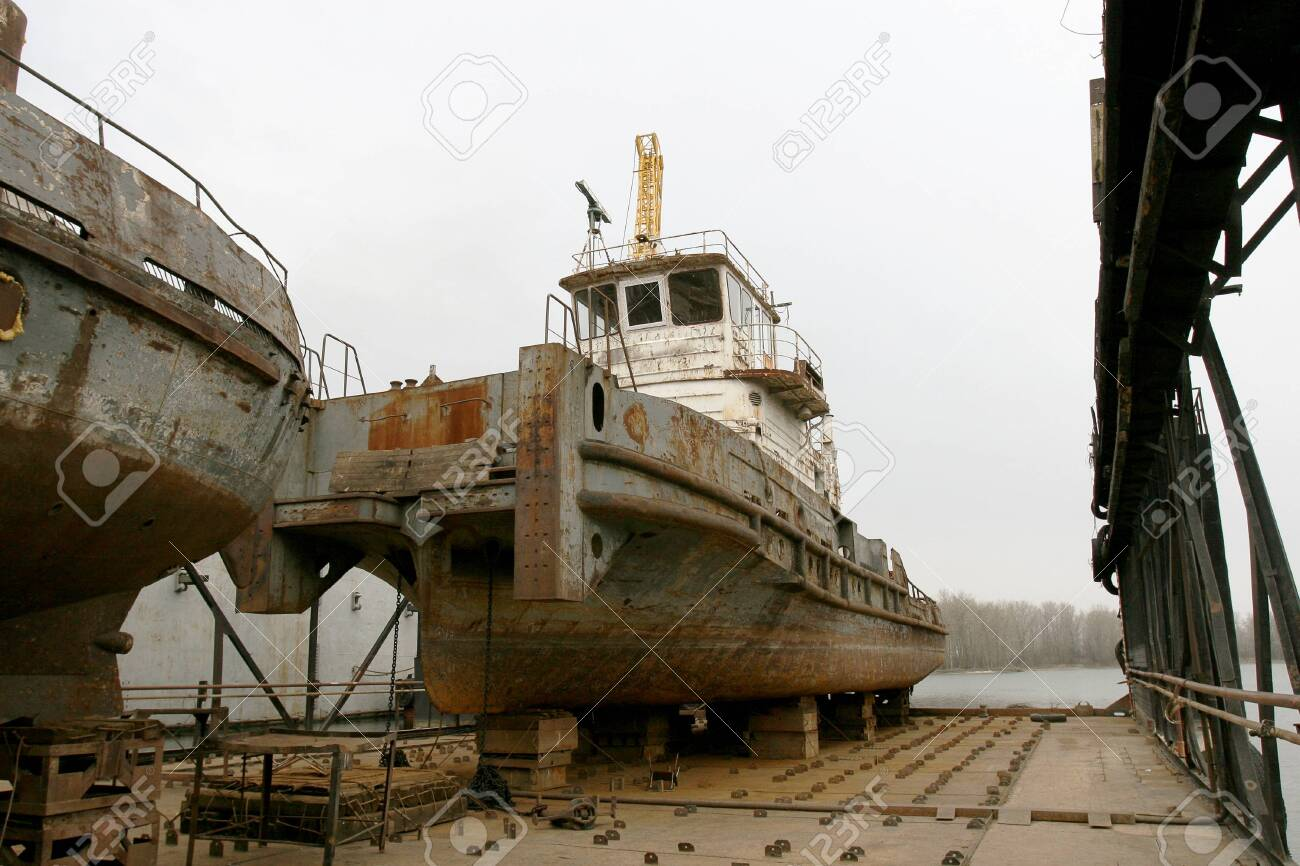rust: (488, 610, 945, 694), (369, 395, 504, 450), (744, 361, 828, 423)
